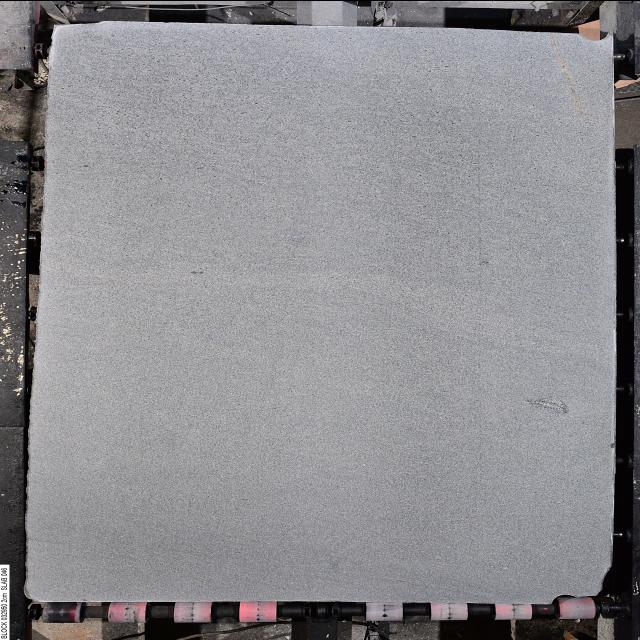chapa: (27, 21, 616, 601)
veio: (574, 24, 612, 44)
